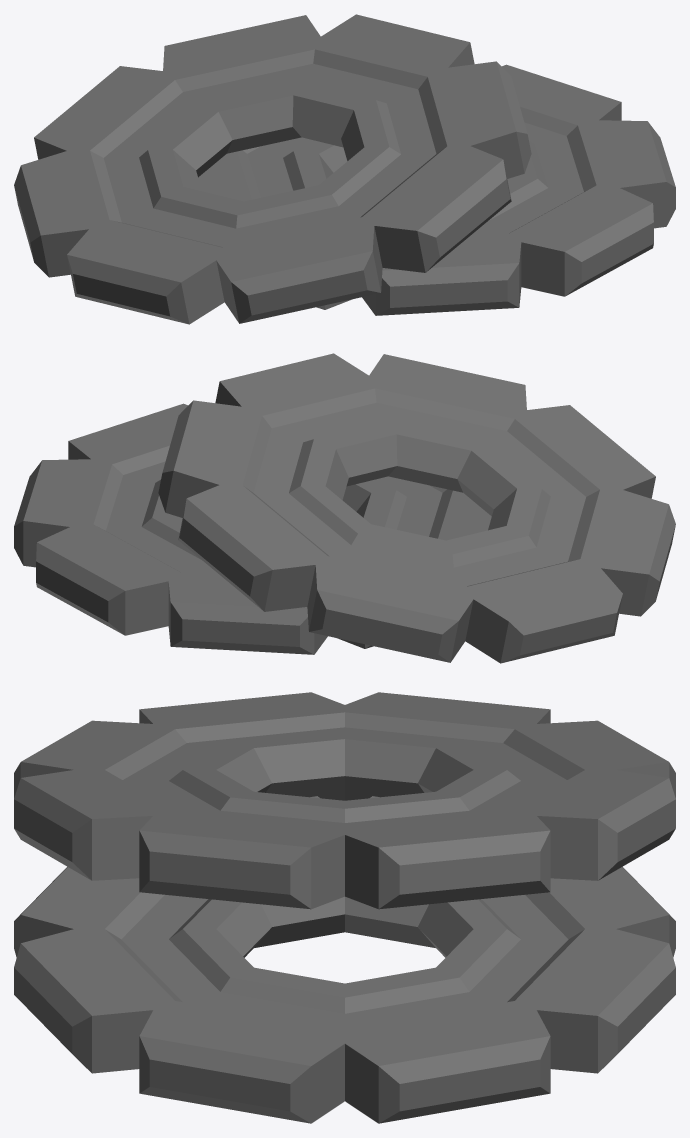
Rendered from Gears (2).fbx.
The picture shows the model from 3 angles, top to bottom: view 1: azimuth 30°, elevation 25°; view 2: azimuth 150°, elevation 25°; view 3: azimuth 270°, elevation 25°; orthographic projection. The views are drawn at different scales.
Parts seen in each view (by area): view 1: Gears; view 2: Gears; view 3: Gears.
Part boxes in pixels (x1,y1,x2,y2): Gears: [14, 14, 675, 324]; Gears: [14, 353, 675, 663]; Gears: [14, 692, 675, 1123].
Bounding box in the file's own units: 80.06 × 18.42 × 60.9.
Materials: 1 (1 with a texture image).
